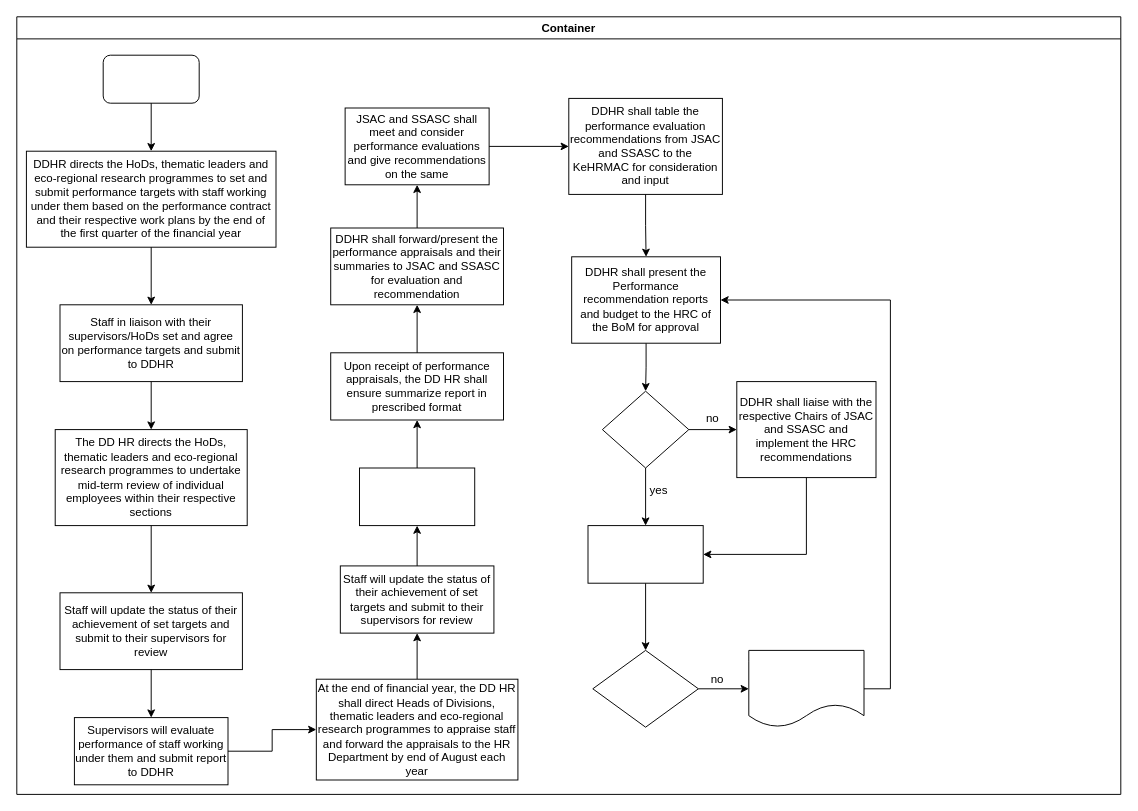
Some shapes in this 1138 by 811 pixel diagram are drawn without their labels. The shapes that lost their labels are listed below. From the top down, each one's centre as x and y in pixels, then its label:
the point at 150,78: Start
the point at 645,429: HRC Approved?
the point at 417,496: Supervisors will evaluate performance of staff working under them
the point at 645,554: DDHR shall submit the report to the Full Board for approval
the point at 645,688: Board Approved?
the point at 806,688: Comments
